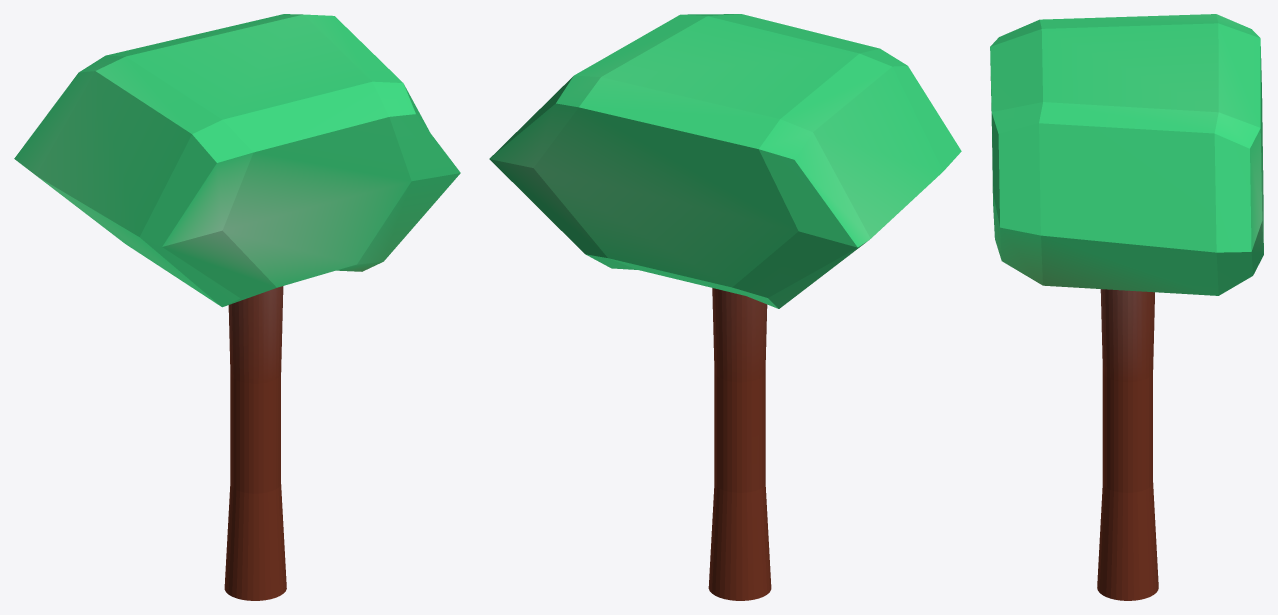
The model's file is tree.fbx.
The picture shows the model from 3 angles, left to right: view 1: azimuth 30°, elevation 25°; view 2: azimuth 150°, elevation 25°; view 3: azimuth 270°, elevation 25°; orthographic projection.
Visible parts, largest first — view 1: Cube; view 2: Cube; view 3: Cube.
Part boxes in pixels (left/top/right/bottom): Cube: left=14, top=14, right=460, bottom=600; Cube: left=489, top=14, right=961, bottom=600; Cube: left=990, top=14, right=1263, bottom=600.
Size of the model in its own units: 531 by 717 by 341.
